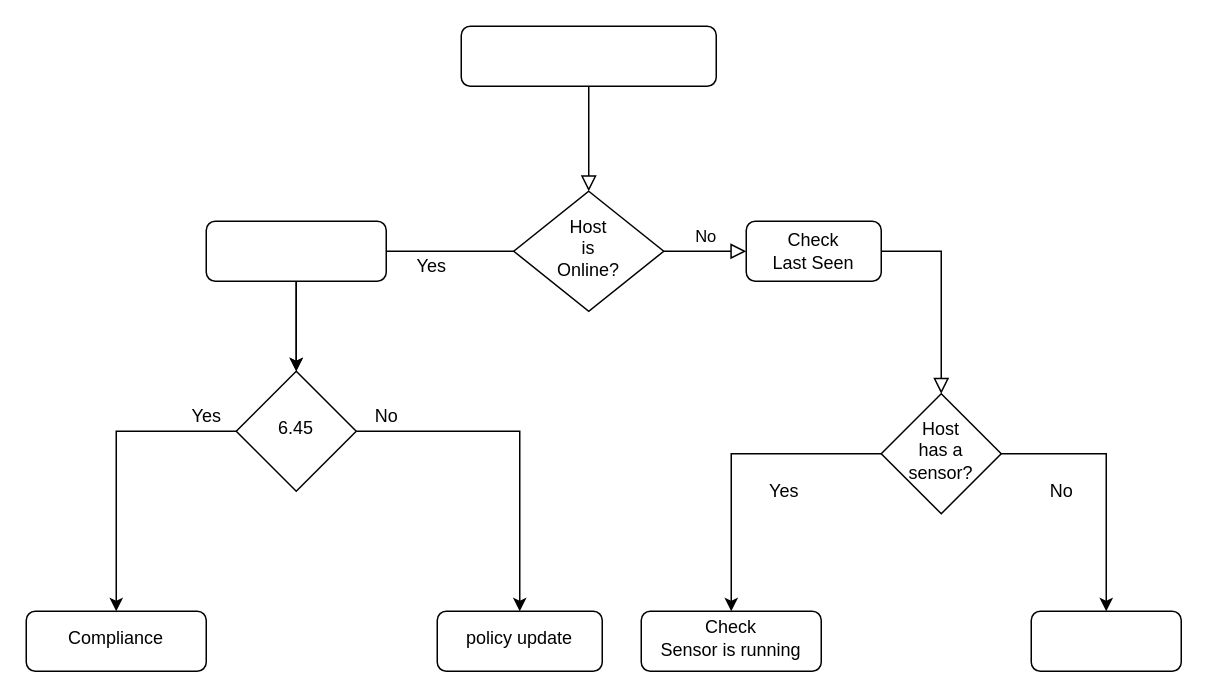
Image size: 1208x698. Some labels were removed from this diagram. Here are the shapes that lost their labels. From the top down, the box of each, then its label:
(460, 25, 716, 86): Host Management
(205, 220, 386, 281): Check Sensor Version
(1030, 610, 1181, 671): Installation
